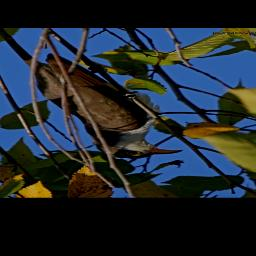Cuckoo: (33, 53, 221, 159)
